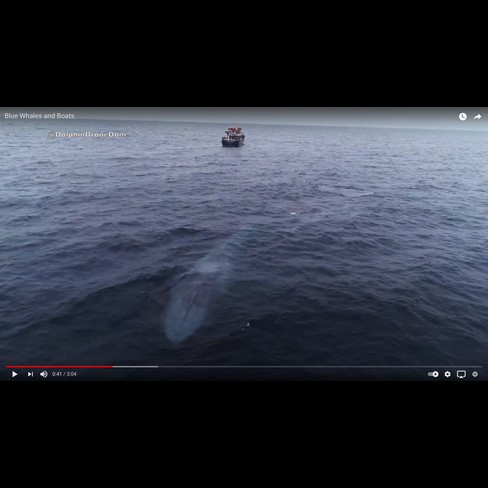bluewhale: (149, 193, 292, 347)
boat: (215, 123, 251, 152)
